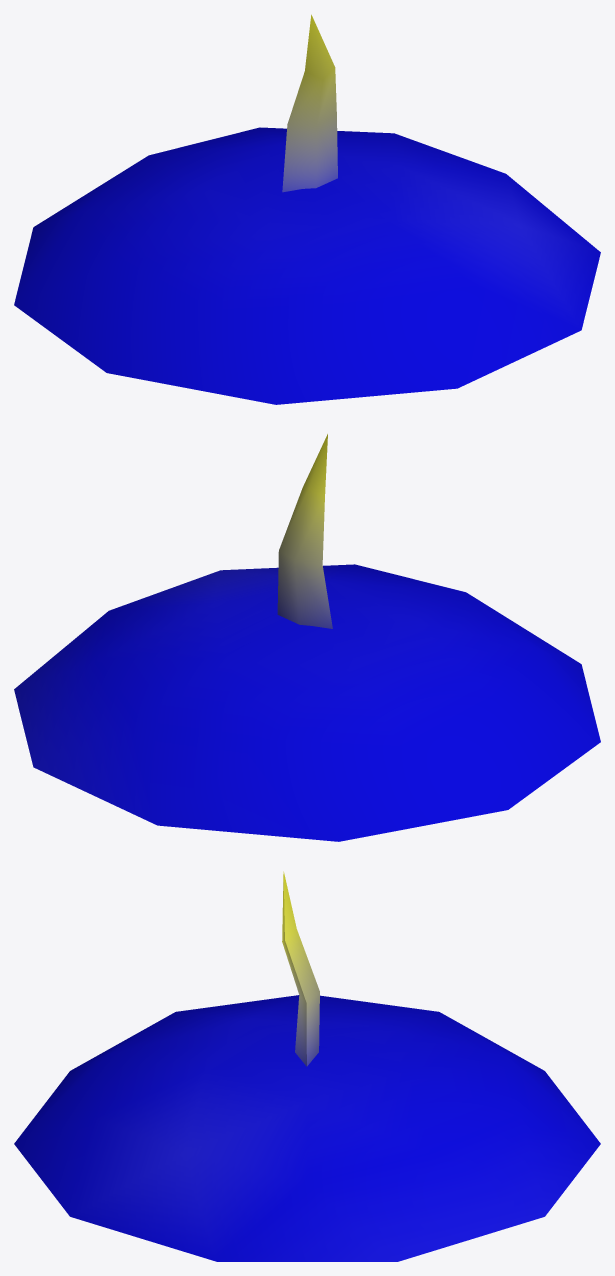
The model's file is Gelplant1.fbx.
3 renders of one model, top to bottom at view 1: azimuth 30°, elevation 25°; view 2: azimuth 150°, elevation 25°; view 3: azimuth 270°, elevation 25°, orthographic. The views are drawn at different scales.
Visible parts, largest first — view 1: Gelplant..005; view 2: Gelplant..005; view 3: Gelplant..005.
Boxes of the visible parts, bbox=[...] form: Gelplant..005: bbox=[14, 14, 600, 404]; Gelplant..005: bbox=[14, 434, 600, 841]; Gelplant..005: bbox=[14, 871, 600, 1261].
Size of the model in its own units: 72.21 by 38.5 by 75.93.
